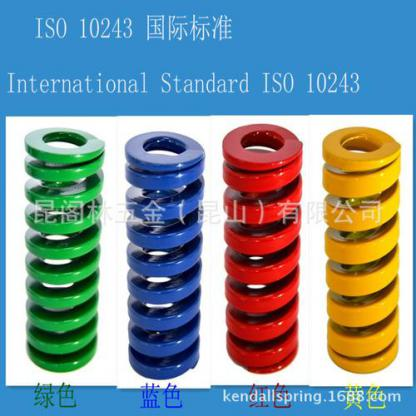FOD: (120, 130, 210, 380), (221, 118, 306, 377), (321, 121, 405, 375), (21, 122, 104, 374)
